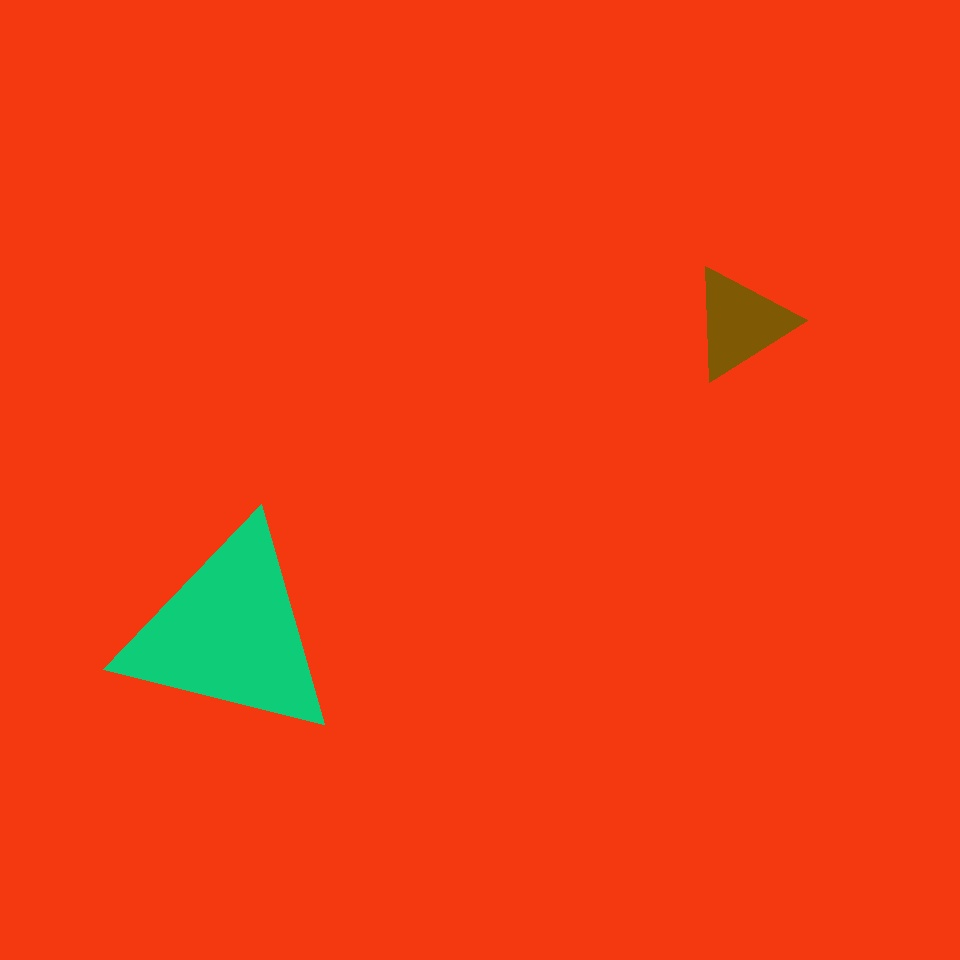circle: (120, 523, 340, 743), (690, 265, 792, 381)
